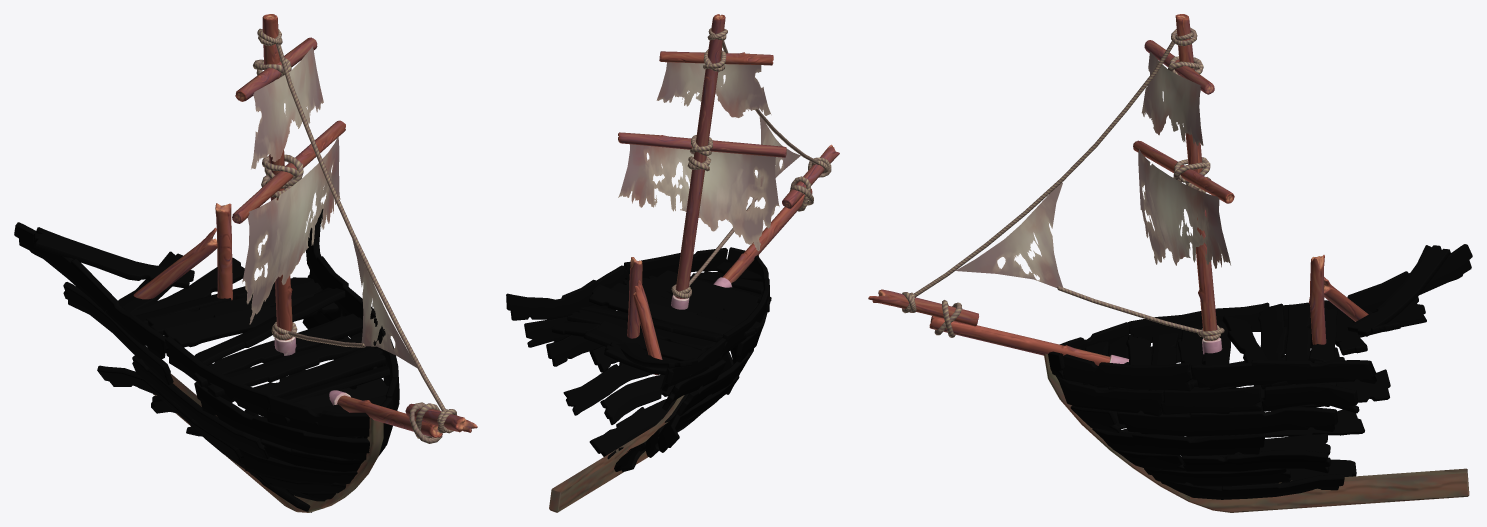
File: Shipwreck_Front_mesh.fbx
3 renders of one model, left to right at view 1: azimuth 30°, elevation 25°; view 2: azimuth 150°, elevation 25°; view 3: azimuth 270°, elevation 25°, orthographic. The views are drawn at different scales.
Parts seen in each view (by area): view 1: Shipwreck_Front_mesh; view 2: Shipwreck_Front_mesh; view 3: Shipwreck_Front_mesh.
Boxes of the visible parts, x1,y1,x2,y2 form: Shipwreck_Front_mesh: [14, 14, 477, 512]; Shipwreck_Front_mesh: [506, 14, 839, 512]; Shipwreck_Front_mesh: [868, 14, 1472, 512].
Size of the model in its own units: 11.36 by 21.77 by 25.12.
